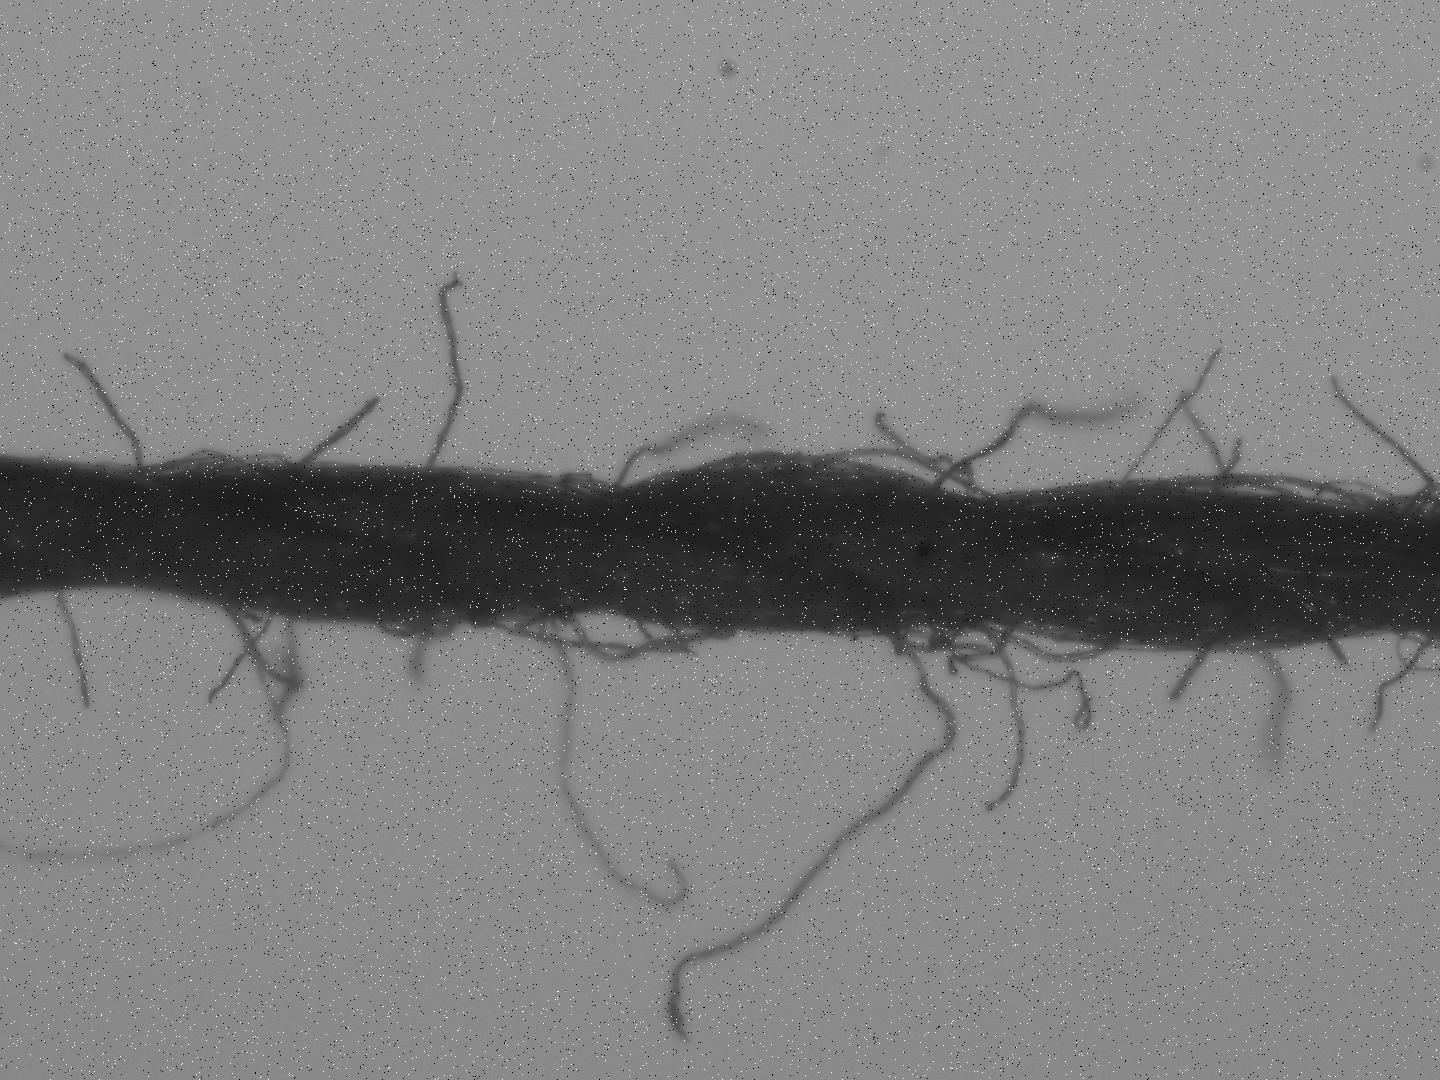loop_fiber: (467, 606, 735, 665), (214, 606, 303, 726), (1111, 471, 1398, 507), (789, 452, 972, 499), (930, 622, 1121, 664), (160, 446, 264, 476), (365, 619, 454, 641)
protruding_fiber: (668, 623, 950, 1047), (937, 398, 1127, 486), (56, 351, 150, 474), (425, 276, 464, 473), (295, 395, 381, 472), (52, 581, 87, 706), (1168, 646, 1214, 706), (1325, 634, 1349, 673)
